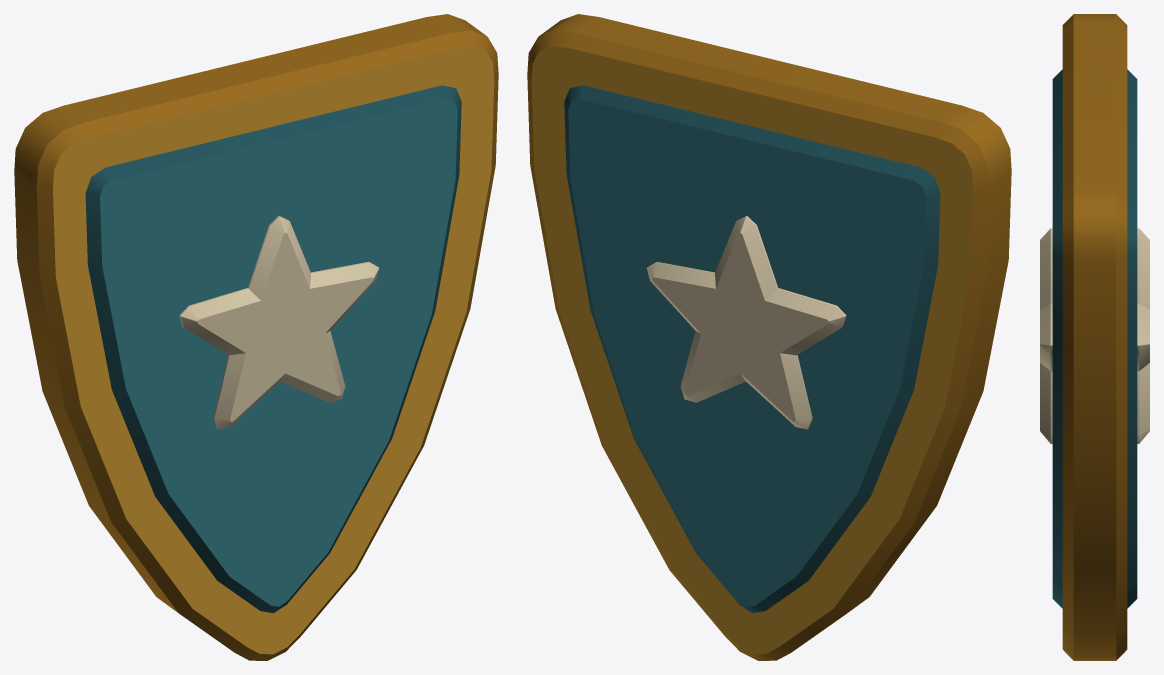
The model's file is Badge_17.glb.
3 views of the same model, side by side, from view 1: azimuth 30°, elevation 25°; view 2: azimuth 150°, elevation 25°; view 3: azimuth 270°, elevation 25° (orthographic). The views are drawn at different scales.
Parts seen in each view (by area): view 1: Badge_17; view 2: Badge_17; view 3: Badge_17.
Boxes of the visible parts, x1,y1,x2,y2 form: Badge_17: (14,14,498,660); Badge_17: (527,14,1011,660); Badge_17: (1040,14,1149,660).
Size of the model in its own units: 2.02 by 2.44 by 0.44.
